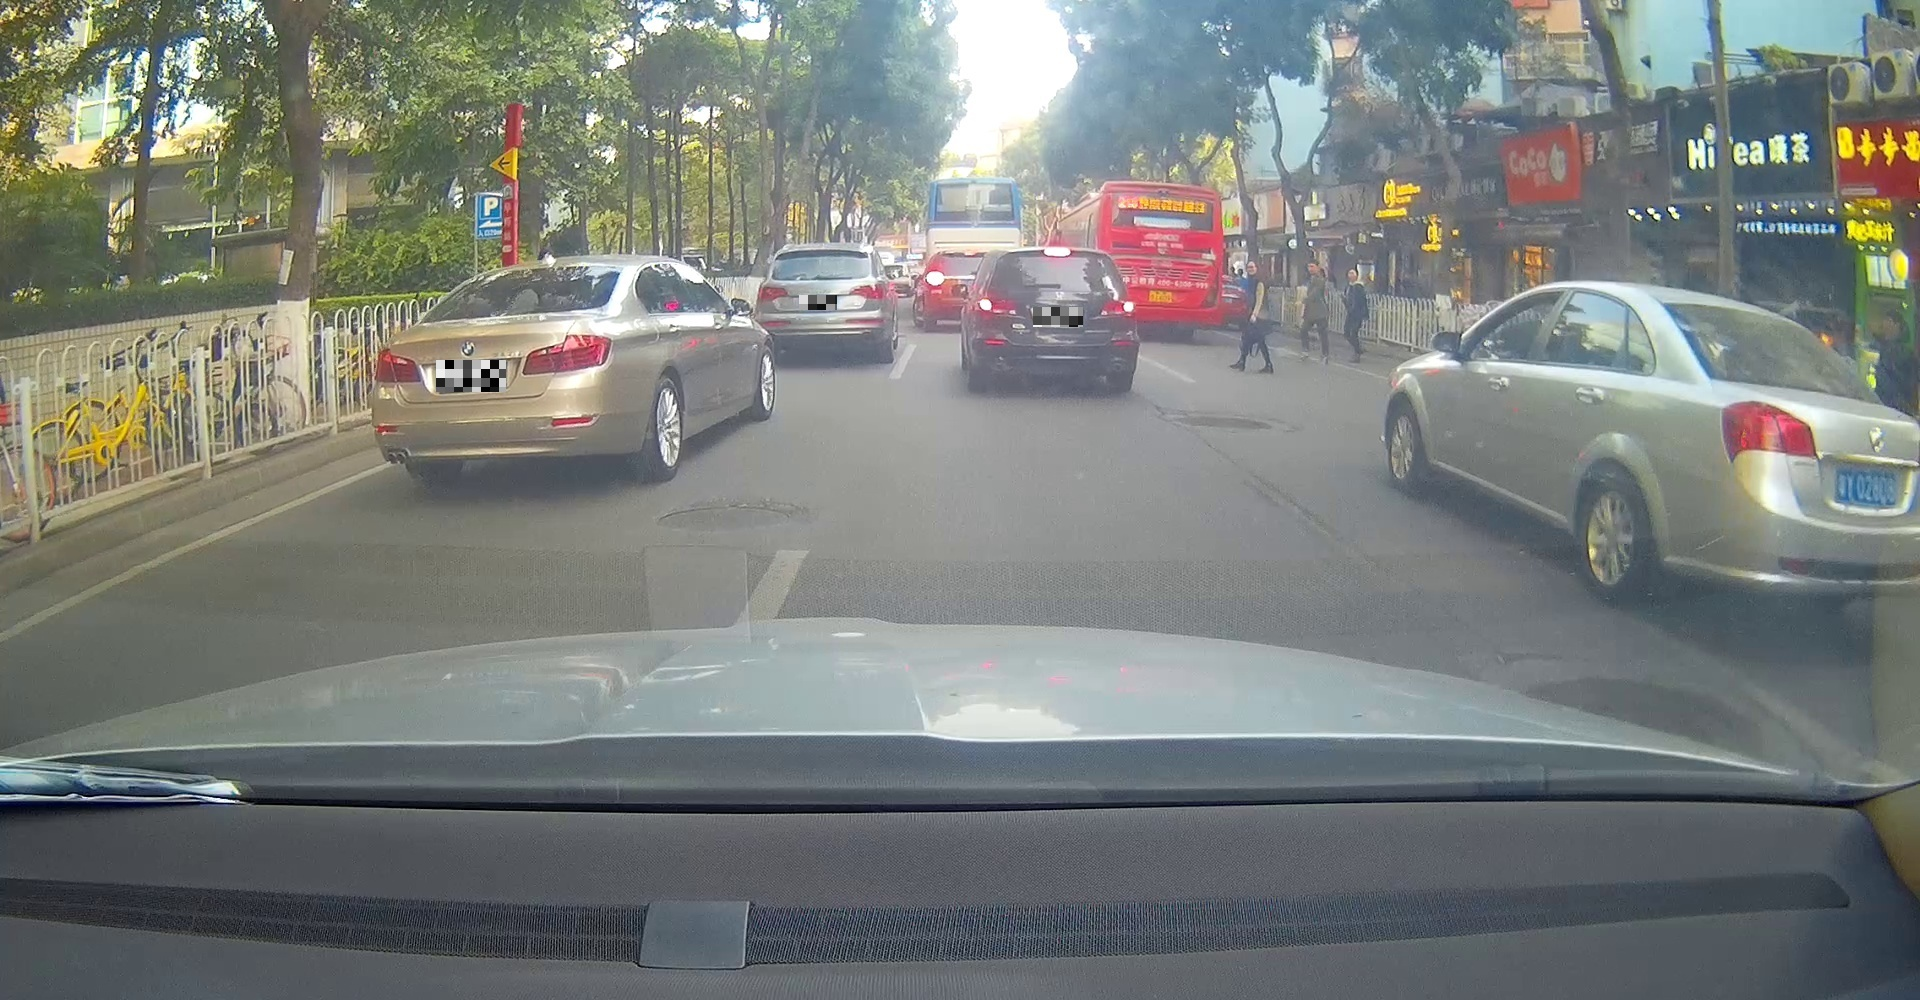L_light: (375, 346, 422, 385), (978, 294, 1017, 319), (757, 286, 789, 301)
R_light: (522, 334, 612, 374), (1100, 298, 1138, 319), (850, 284, 885, 299)
T_light: (533, 270, 566, 280), (1043, 247, 1072, 258), (815, 250, 834, 258)
day-brake: (977, 247, 1140, 393)
day-no: (372, 255, 636, 492), (754, 242, 888, 365)
plate_1: (436, 360, 505, 392)
plate_2: (799, 294, 837, 310)
plate_3: (1032, 307, 1083, 327)
